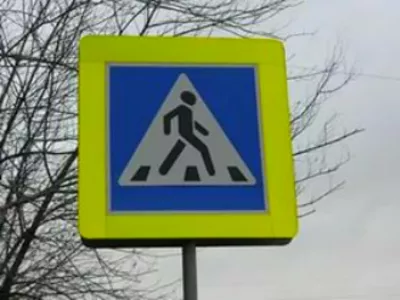crosswalk: (113, 69, 260, 202)
